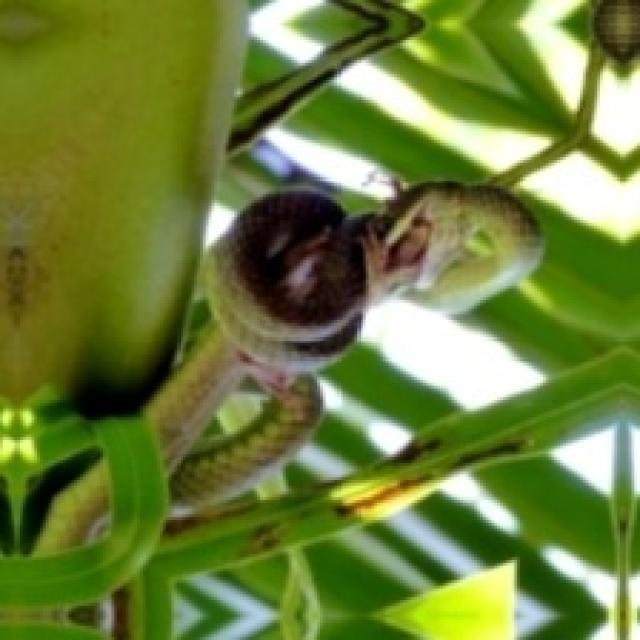paradise tree snake: (146, 180, 540, 506), (34, 460, 109, 554)
